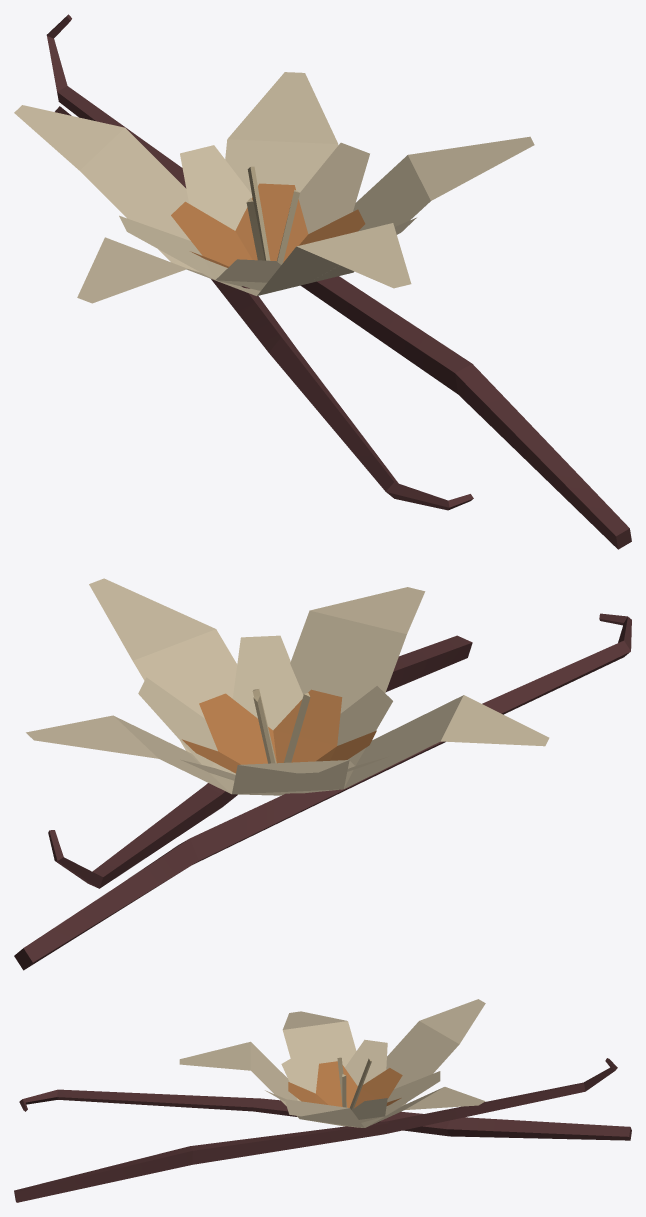
File: SM_VanillaBeans.fbx
3 views of the same model, one above another, from view 1: azimuth 30°, elevation 25°; view 2: azimuth 150°, elevation 25°; view 3: azimuth 270°, elevation 25° (orthographic). The views are drawn at different scales.
Parts seen in each view (by area): view 1: Vanilla_Beans; view 2: Vanilla_Beans; view 3: Vanilla_Beans.
Boxes of the visible parts, left/top/right/bottom form: Vanilla_Beans: left=14, top=14, right=631, bottom=549; Vanilla_Beans: left=14, top=578, right=631, bottom=970; Vanilla_Beans: left=14, top=999, right=631, bottom=1202.
Bounding box in the file's own units: 0.2726 × 0.1247 × 0.5232.
